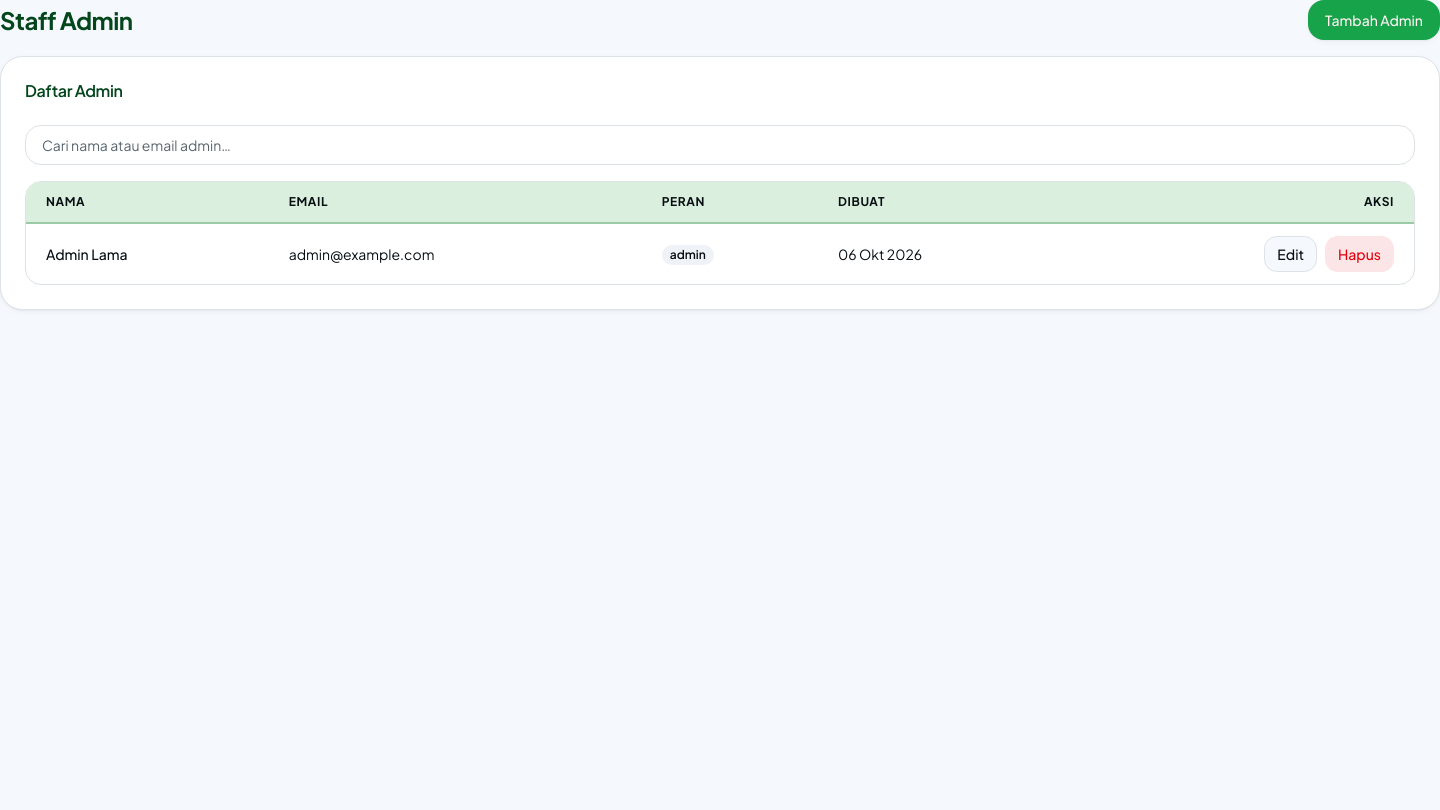
Staff admin › rejects an empty edit before making a request
This screenshot has width=1440, height=810.
Click the button with aria-label "Edit Admin Lama".
click(1291, 254)  # box [1264,236,1317,272]
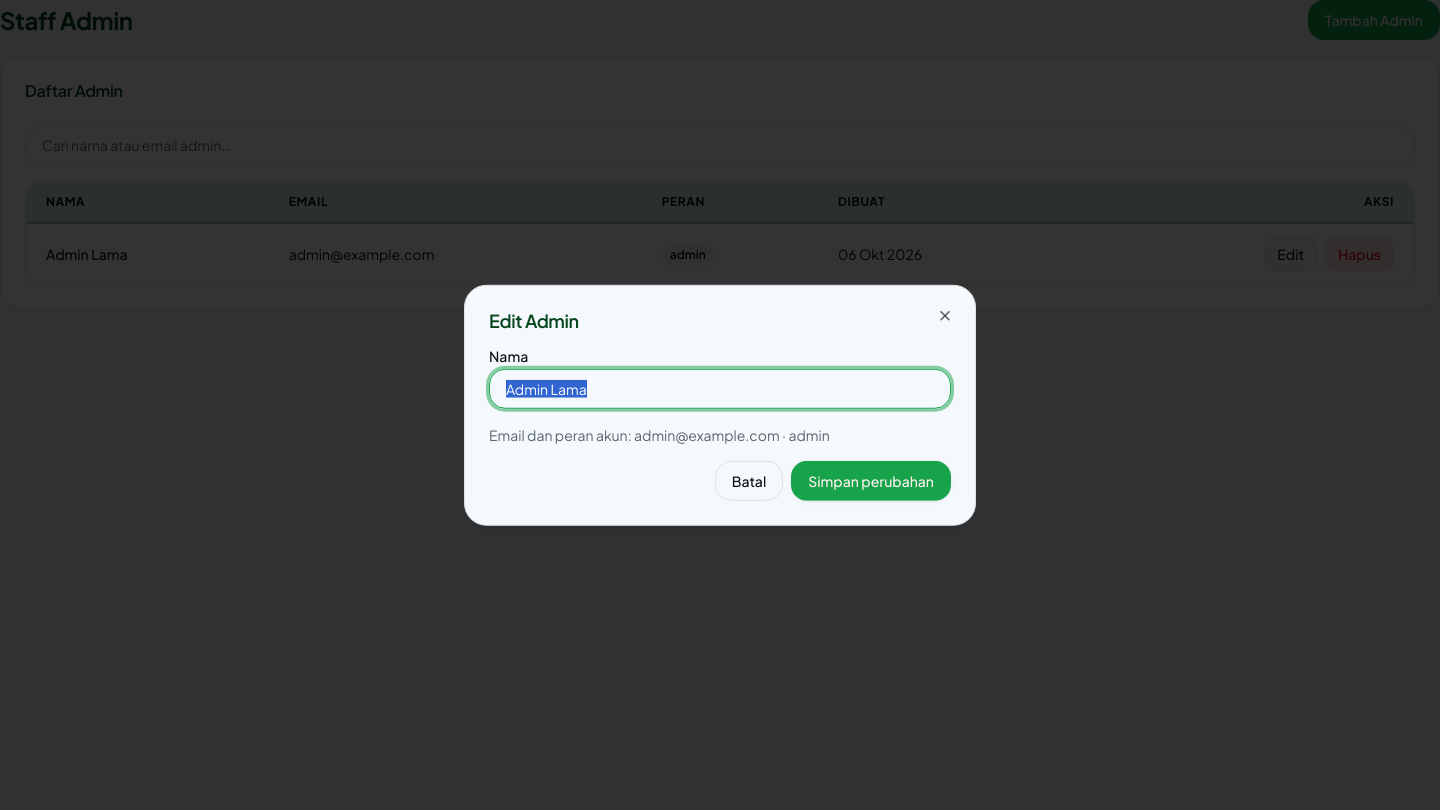
Clear the field labelled "Nama" at (720, 388), box [489,368,951,408]
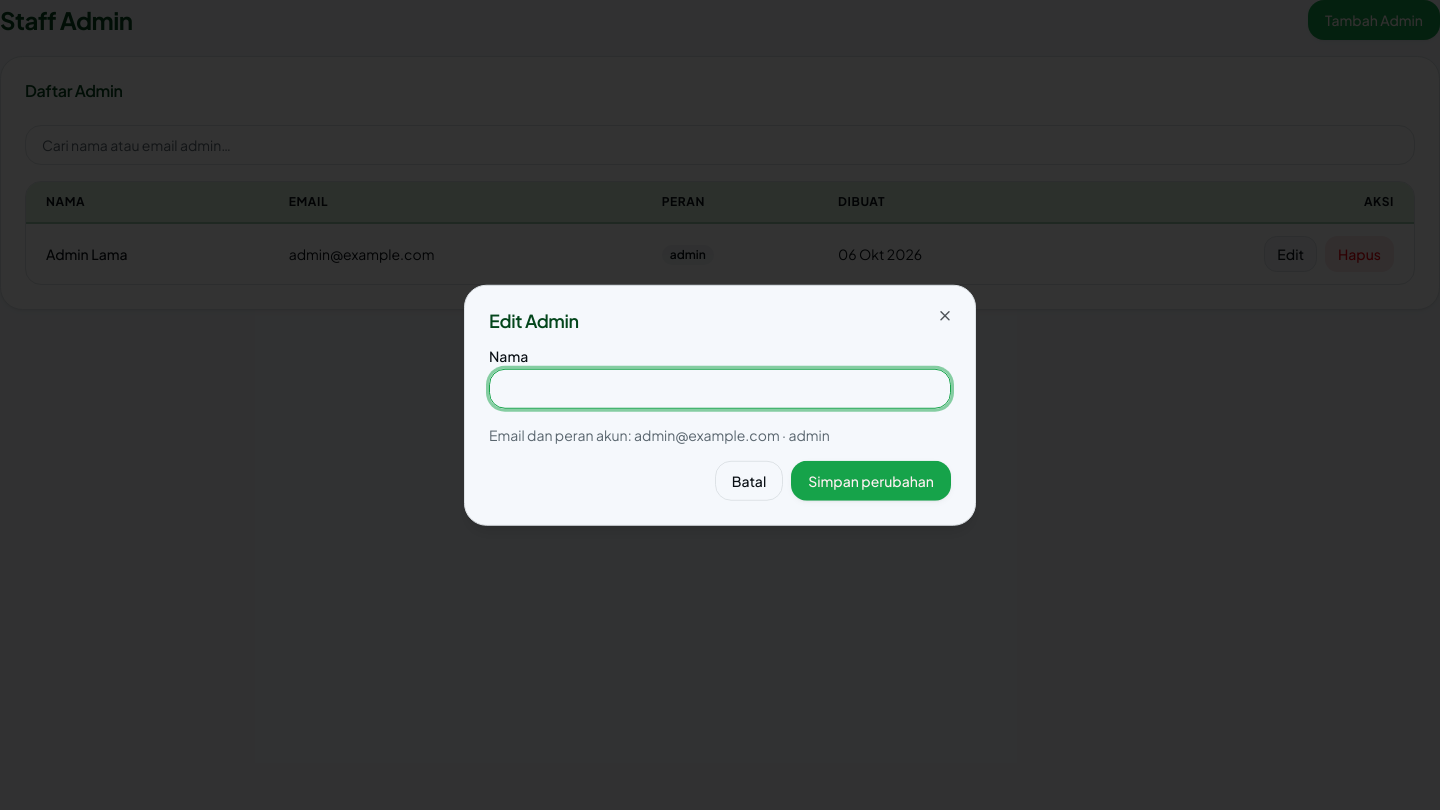
Click the button "Simpan perubahan".
click(871, 480)  # box [791,460,951,500]
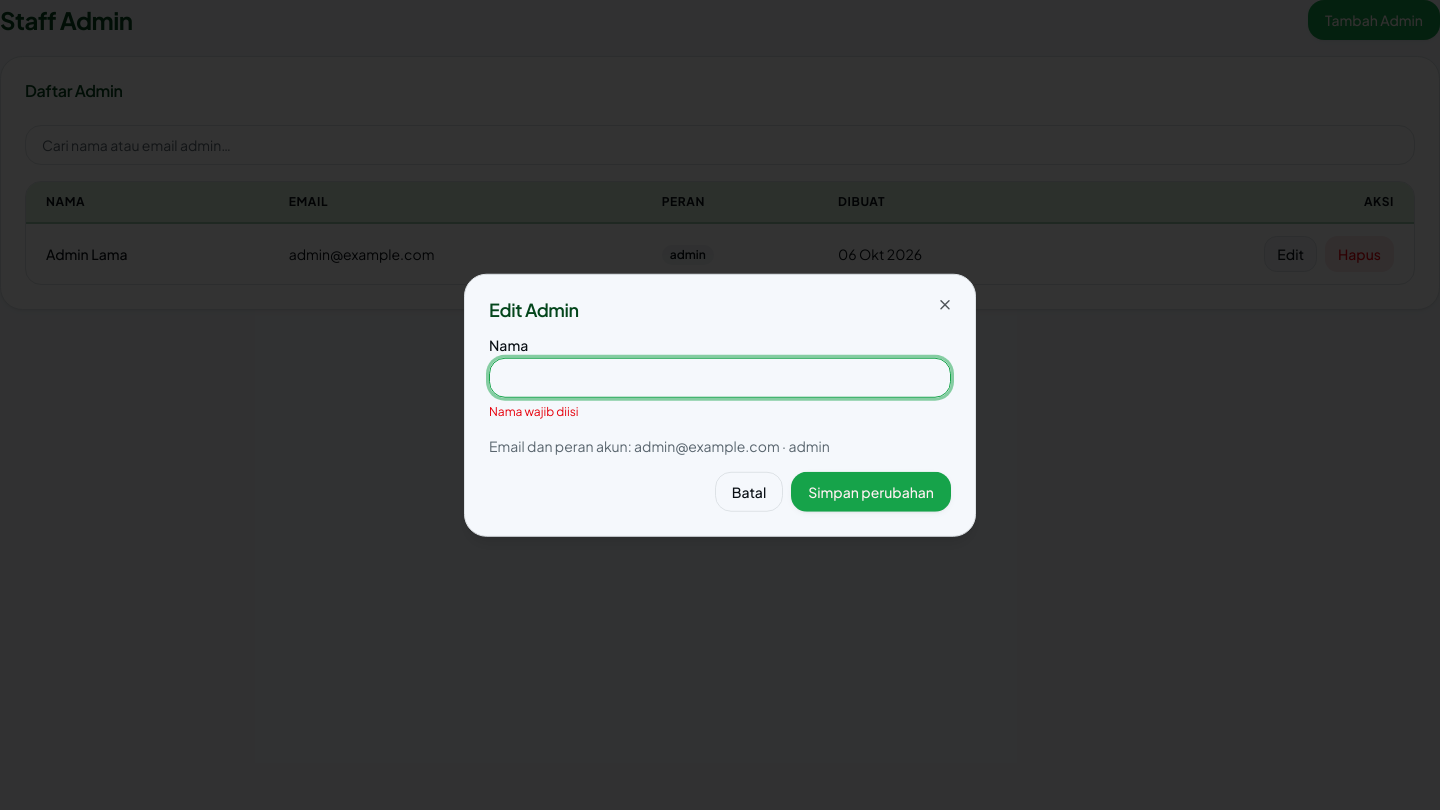
Expected: the text "Nama wajib diisi" is shown, [489,403,579,418]
